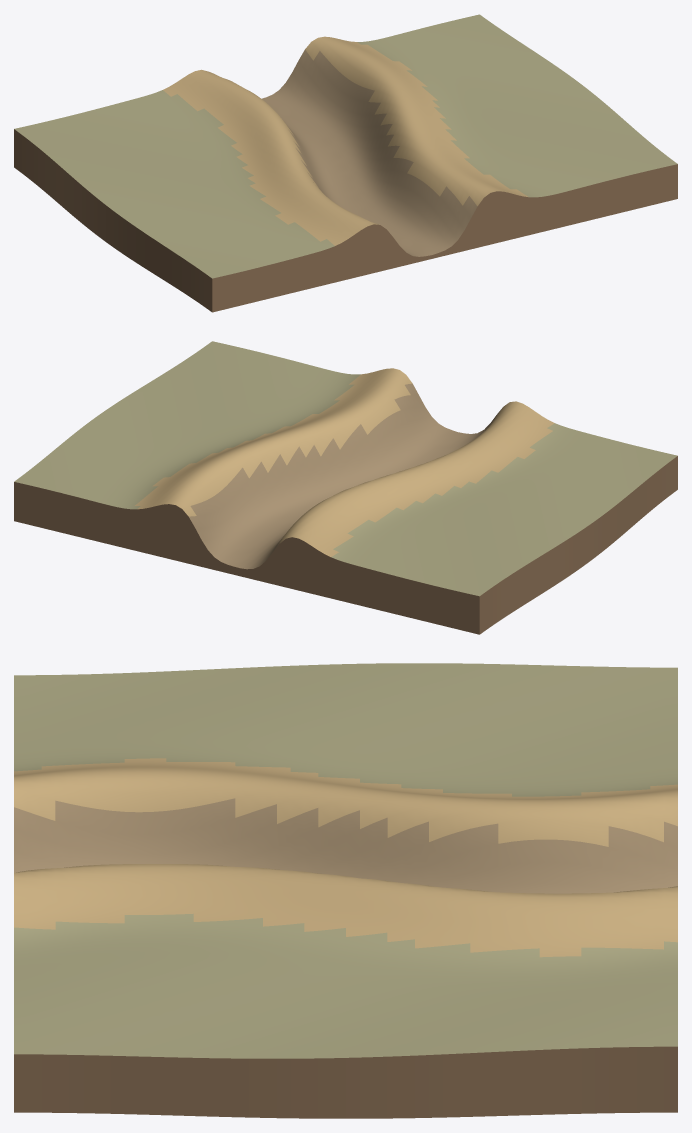
The model's file is natural-levee.glb.
3 views of the same model, one above another, from view 1: azimuth 30°, elevation 25°; view 2: azimuth 150°, elevation 25°; view 3: azimuth 270°, elevation 25° (orthographic). The views are drawn at different scales.
Visible parts, largest first — view 1: Continuous channel levees and backplain sediment crop; view 2: Continuous channel levees and backplain sediment crop; view 3: Continuous channel levees and backplain sediment crop.
Boxes of the visible parts, x1,y1,x2,y2 form: Continuous channel levees and backplain sediment crop: (14,14,677,312); Continuous channel levees and backplain sediment crop: (14,341,677,634); Continuous channel levees and backplain sediment crop: (14,663,677,1118).
Bounding box in the file's own units: 14 × 1.58 × 10.
